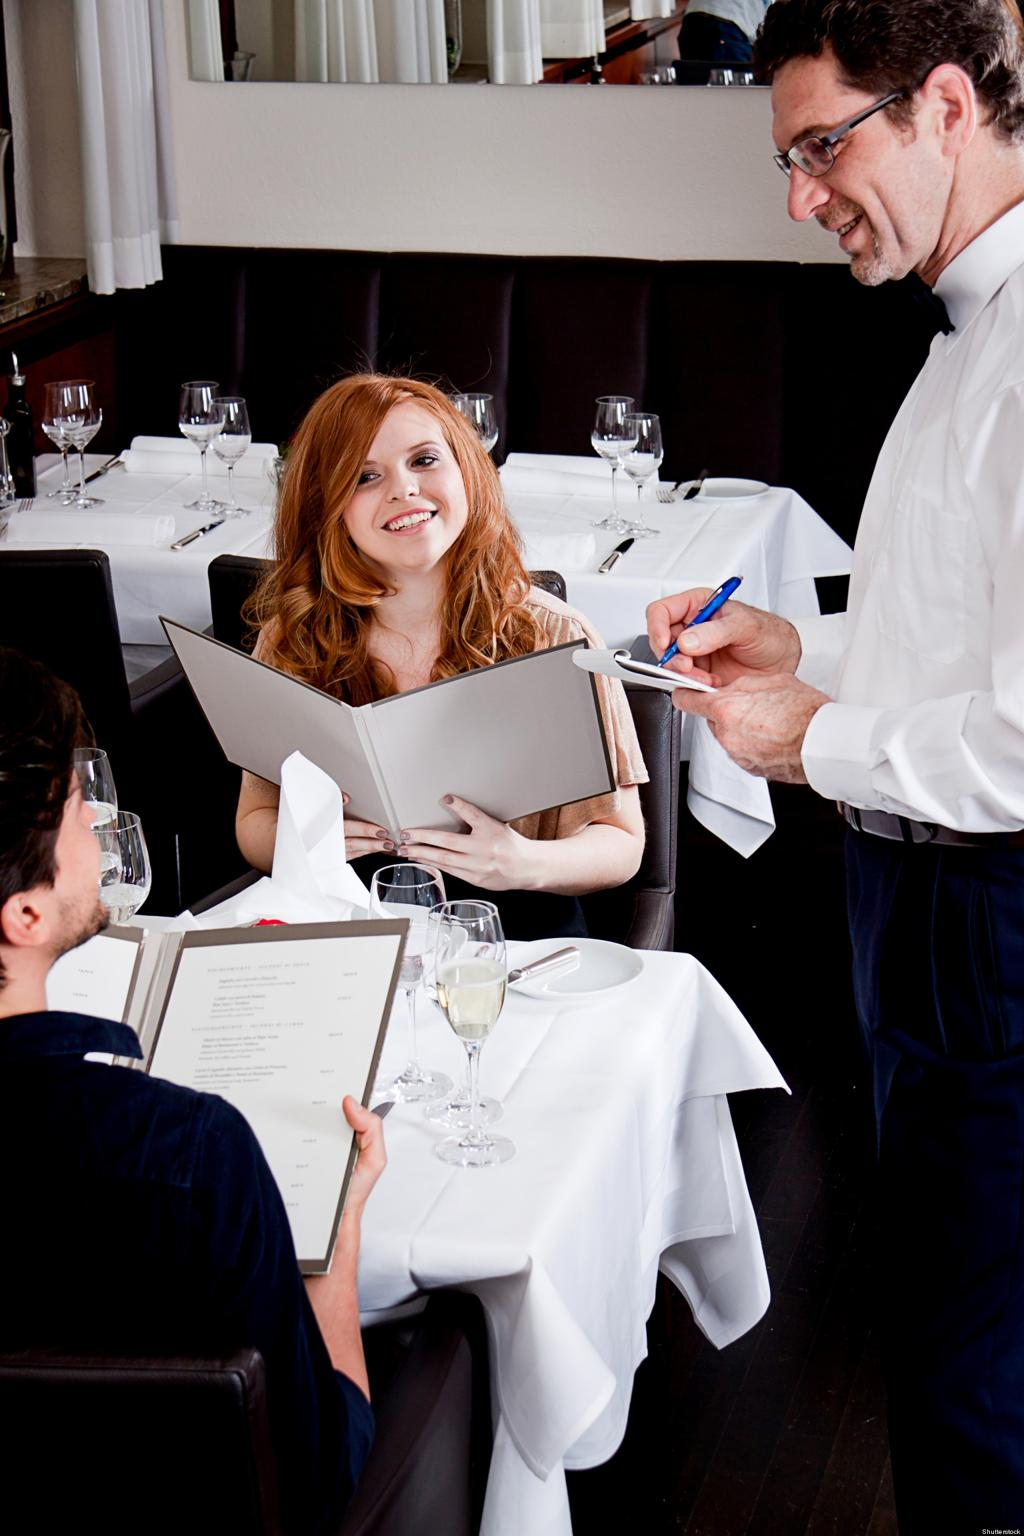face: (766, 51, 949, 291), (333, 399, 468, 573), (27, 721, 114, 925)
